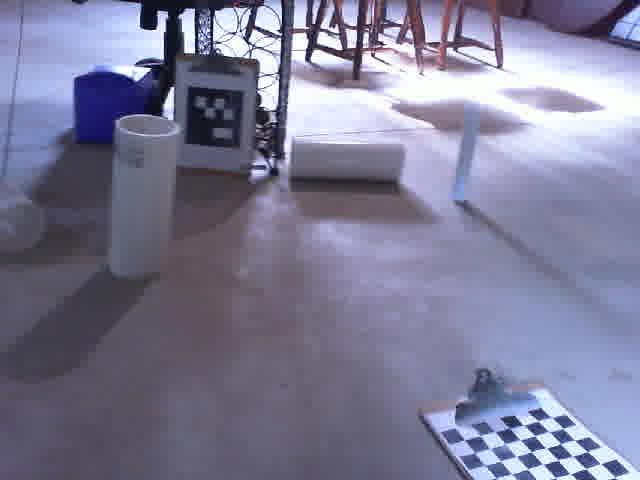coral: (109, 110, 183, 279), (285, 133, 411, 186), (0, 176, 51, 259)
